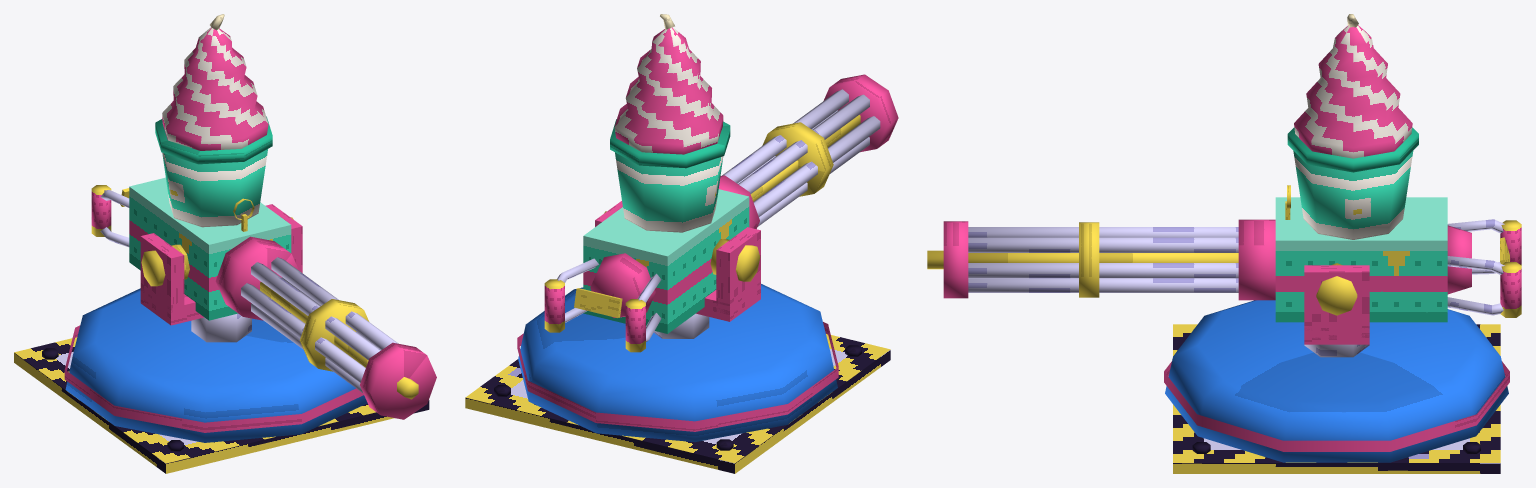
Rendered from Soft Serve Minigun.fbx.
The picture shows the model from 3 angles, left to right: view 1: azimuth 30°, elevation 25°; view 2: azimuth 150°, elevation 25°; view 3: azimuth 270°, elevation 25°; orthographic projection. The views are drawn at different scales.
Parts seen in each view (by area): view 1: Soft Serve Minigun turret ring, Soft Serve Minigun soft serve, Soft Serve Minigun housing, Soft Serve Minigun mount plate, Soft Serve Minigun hopper, Soft Serve Minigun clamp -0.75, Soft Serve Minigun ring band, Soft Serve Minigun clamp 0.01, Soft Serve Minigun yoke arm -1, Soft Serve Minigun barrel 2, Soft Serve Minigun barrel 3, Soft Serve Minigun barrel 1 (+9 smaller); view 2: Soft Serve Minigun turret ring, Soft Serve Minigun housing, Soft Serve Minigun mount plate, Soft Serve Minigun soft serve, Soft Serve Minigun hopper, Soft Serve Minigun ring band, Soft Serve Minigun yoke arm -1, Soft Serve Minigun motor, Soft Serve Minigun clamp -0.75, Soft Serve Minigun barrel 2, Soft Serve Minigun barrel 3, Soft Serve Minigun hopper rim (+11 smaller); view 3: Soft Serve Minigun turret ring, Soft Serve Minigun housing, Soft Serve Minigun soft serve, Soft Serve Minigun mount plate, Soft Serve Minigun hopper, Soft Serve Minigun ring band, Soft Serve Minigun barrel 0, Soft Serve Minigun barrel 1, Soft Serve Minigun barrel 5, Soft Serve Minigun clamp 0.01, Soft Serve Minigun yoke arm 1, Soft Serve Minigun spindle (+12 smaller).
Part boxes in pixels (bbox=[...]): Soft Serve Minigun turret ring: bbox=[65, 288, 367, 442]; Soft Serve Minigun soft serve: bbox=[162, 27, 268, 150]; Soft Serve Minigun housing: bbox=[129, 177, 291, 320]; Soft Serve Minigun mount plate: bbox=[14, 337, 429, 473]; Soft Serve Minigun hopper: bbox=[162, 149, 267, 227]; Soft Serve Minigun clamp -0.75: bbox=[360, 342, 436, 419]; Soft Serve Minigun ring band: bbox=[64, 325, 363, 432]; Soft Serve Minigun clamp 0.01: bbox=[215, 236, 298, 320]; Soft Serve Minigun yoke arm -1: bbox=[140, 233, 184, 319]; Soft Serve Minigun barrel 2: bbox=[251, 262, 380, 359]; Soft Serve Minigun barrel 3: bbox=[241, 283, 365, 382]; Soft Serve Minigun barrel 1: bbox=[271, 257, 398, 349]; Soft Serve Minigun turret ring: bbox=[518, 284, 837, 442]; Soft Serve Minigun housing: bbox=[583, 189, 749, 333]; Soft Serve Minigun mount plate: bbox=[465, 334, 890, 473]; Soft Serve Minigun soft serve: bbox=[614, 27, 723, 154]; Soft Serve Minigun hopper: bbox=[615, 152, 723, 232]; Soft Serve Minigun ring band: bbox=[517, 322, 838, 431]; Soft Serve Minigun yoke arm -1: bbox=[716, 227, 760, 316]; Soft Serve Minigun motor: bbox=[590, 253, 655, 317]; Soft Serve Minigun clamp -0.75: bbox=[823, 74, 898, 152]; Soft Serve Minigun barrel 2: bbox=[738, 94, 869, 193]; Soft Serve Minigun barrel 3: bbox=[753, 116, 880, 216]; Soft Serve Minigun hopper rim: bbox=[610, 119, 730, 168]; Soft Serve Minigun turret ring: bbox=[1165, 300, 1508, 462]; Soft Serve Minigun housing: bbox=[1275, 197, 1447, 322]; Soft Serve Minigun soft serve: bbox=[1294, 25, 1412, 158]; Soft Serve Minigun mount plate: bbox=[1173, 324, 1500, 473]; Soft Serve Minigun hopper: bbox=[1293, 151, 1413, 239]; Soft Serve Minigun ring band: bbox=[1164, 361, 1509, 451]; Soft Serve Minigun barrel 0: bbox=[968, 263, 1238, 278]; Soft Serve Minigun barrel 1: bbox=[968, 237, 1238, 252]; Soft Serve Minigun barrel 5: bbox=[968, 278, 1238, 292]; Soft Serve Minigun clamp 0.01: bbox=[1238, 219, 1275, 300]; Soft Serve Minigun yoke arm 1: bbox=[1304, 265, 1369, 338]; Soft Serve Minigun spindle: bbox=[927, 250, 1238, 269].
Size of the model in its own units: 0.8027 by 1.06 by 1.45.
Materials: 13 (13 with a texture image).
